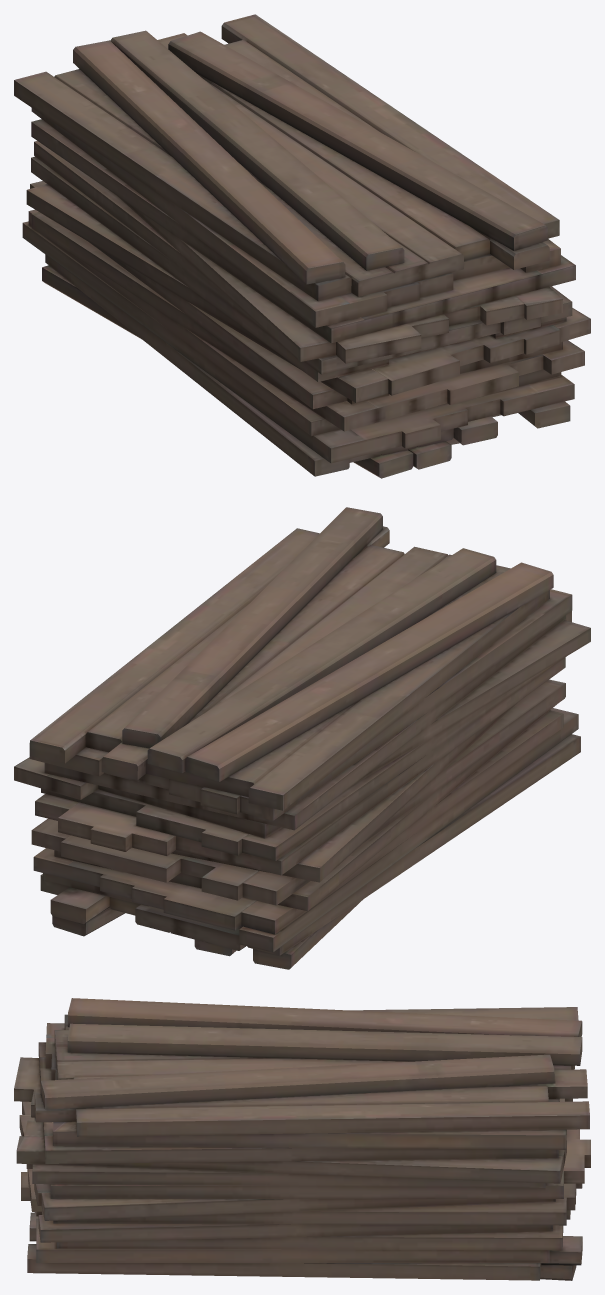
3 views of the same model, one above another, from view 1: azimuth 30°, elevation 25°; view 2: azimuth 150°, elevation 25°; view 3: azimuth 270°, elevation 25° (orthographic). The views are drawn at different scales.
Visible parts, largest first — view 1: body0_model0_lod0_mesh0; view 2: body0_model0_lod0_mesh0; view 3: body0_model0_lod0_mesh0.
Part boxes in pixels (<box>): body0_model0_lod0_mesh0: <box>14,14,590,478</box>; body0_model0_lod0_mesh0: <box>14,507,590,969</box>; body0_model0_lod0_mesh0: <box>14,998,590,1280</box>.
Size of the model in its own units: 101 by 68.1 by 192.
1 material, 1 textured.
